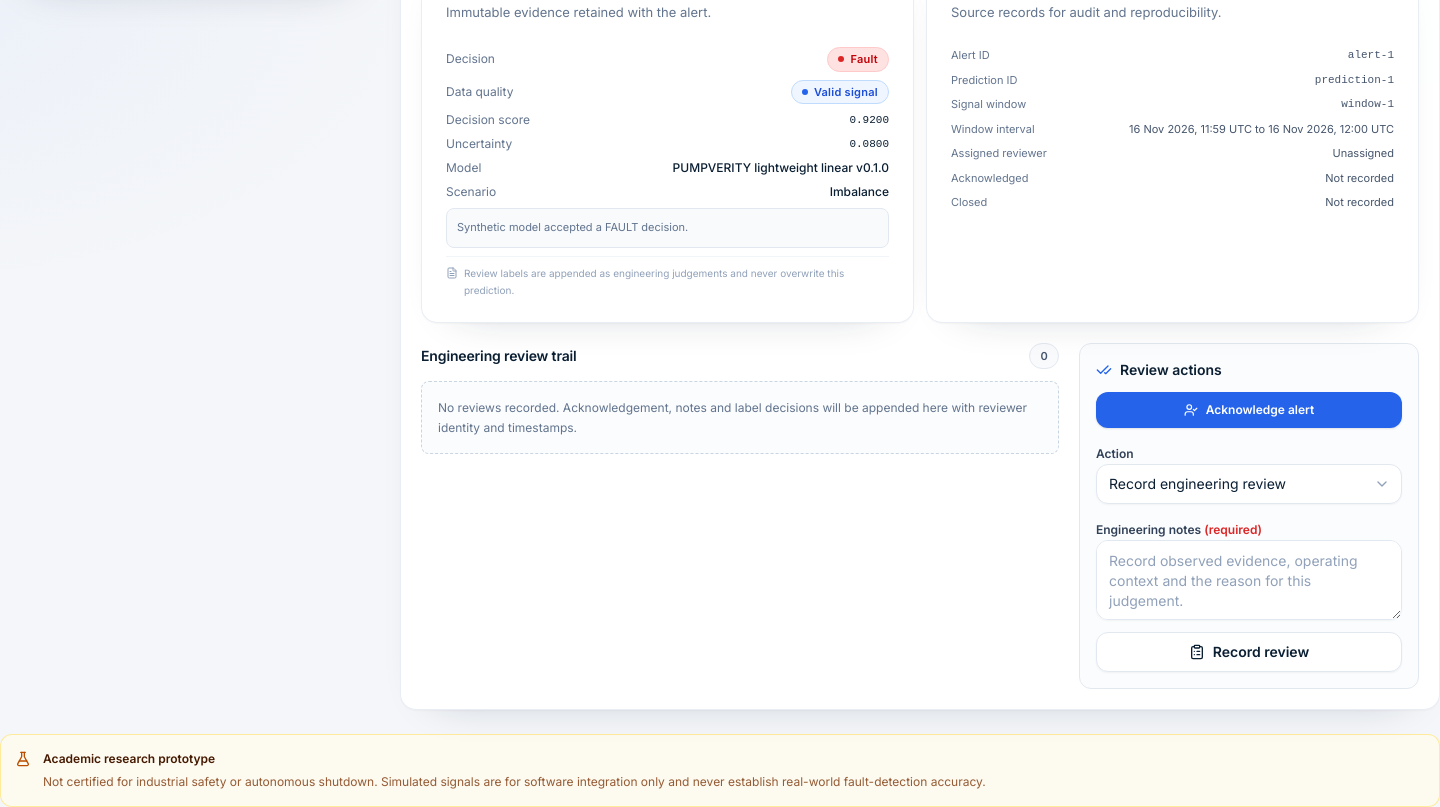
Test case: AlertsPage › submits an appended correction with a label and notes
(page scrolled)
Select "Correct prediction label" in the dropdown labelled "Action" at (1249, 484), box [1096,464,1402,504]
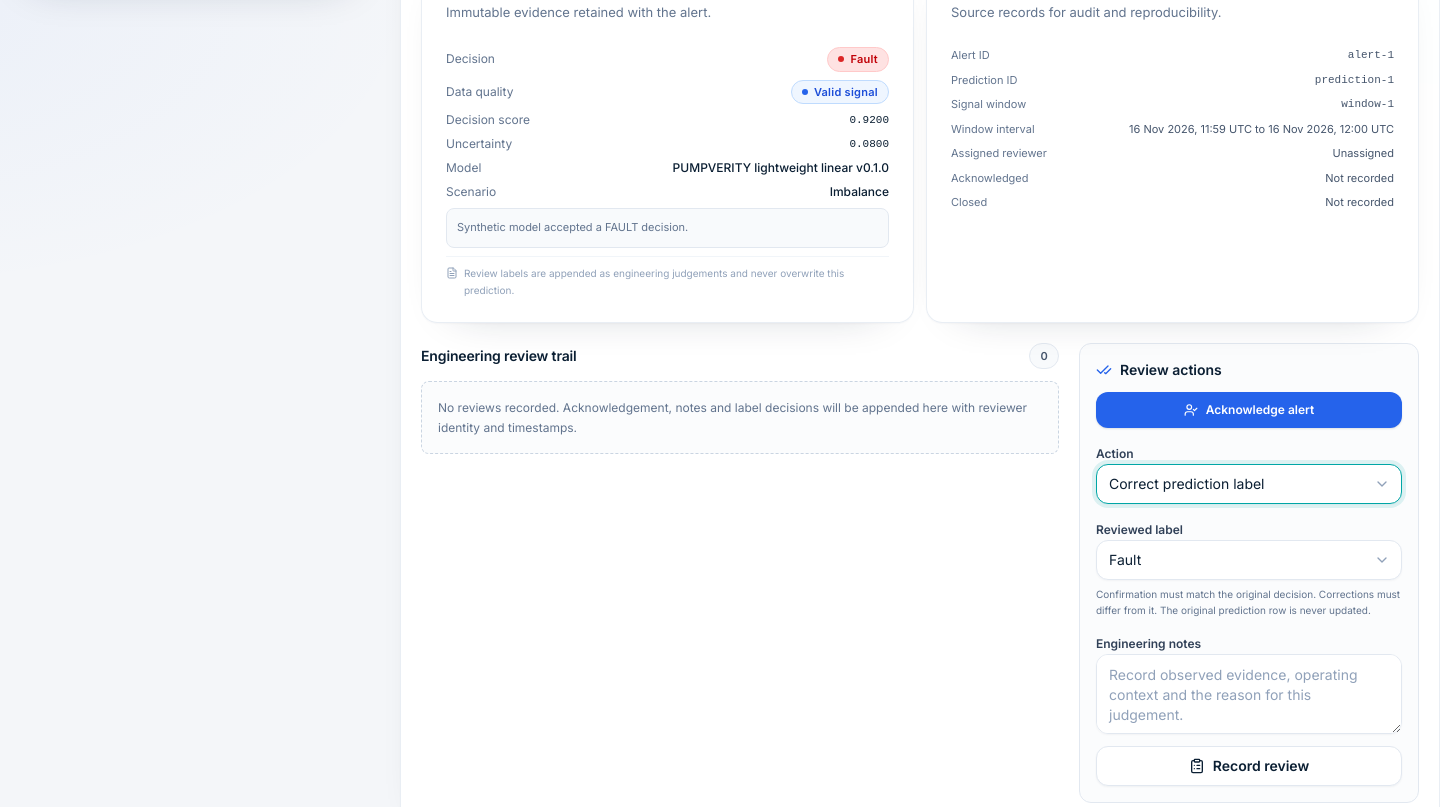
Select "Uncertain" in the dropdown labelled "Reviewed label" at (1249, 560), box [1096,540,1402,580]
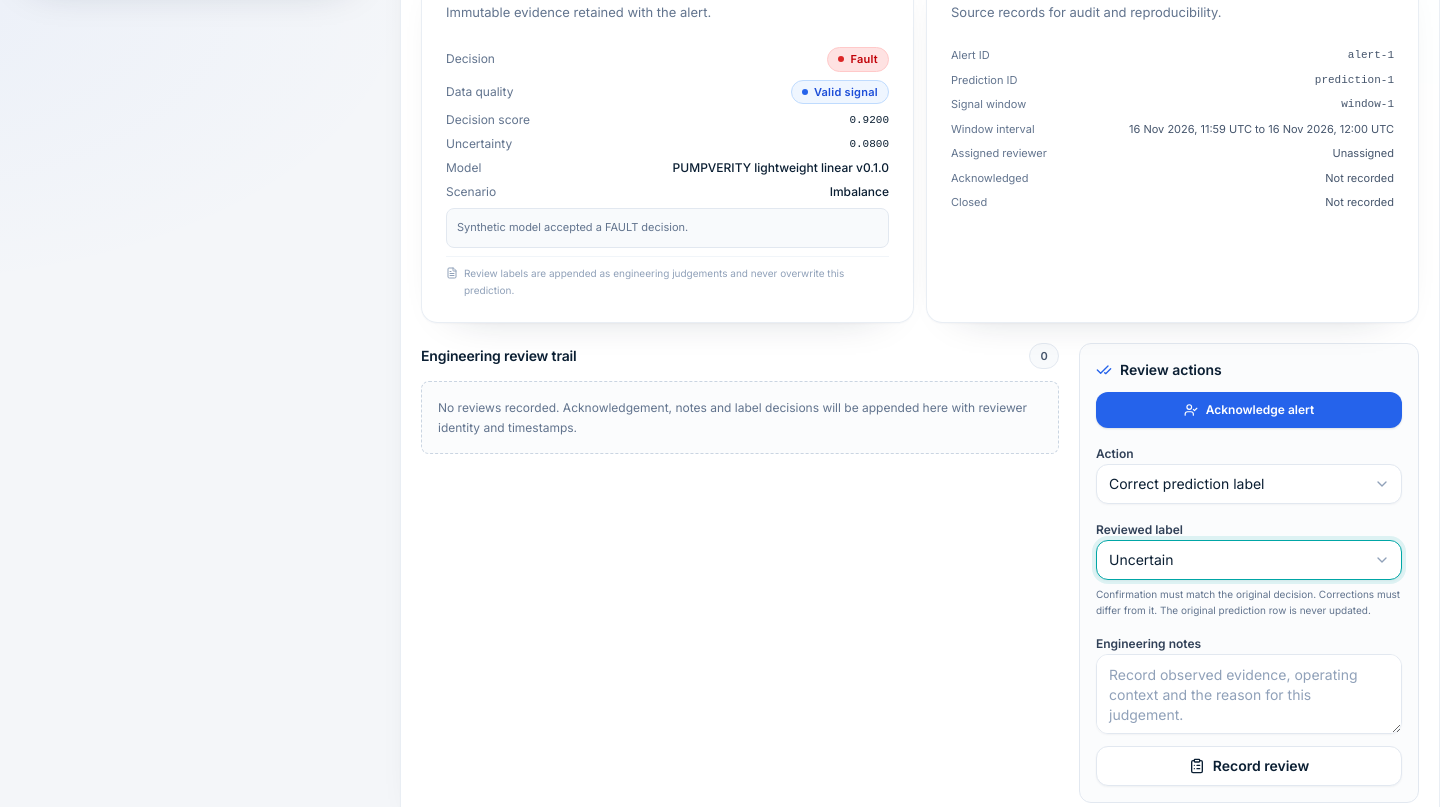
Type "Evidence is inconclusive after inspection." into the text box labelled "Engineering notes" at (1249, 694), box [1096,654,1402,734]
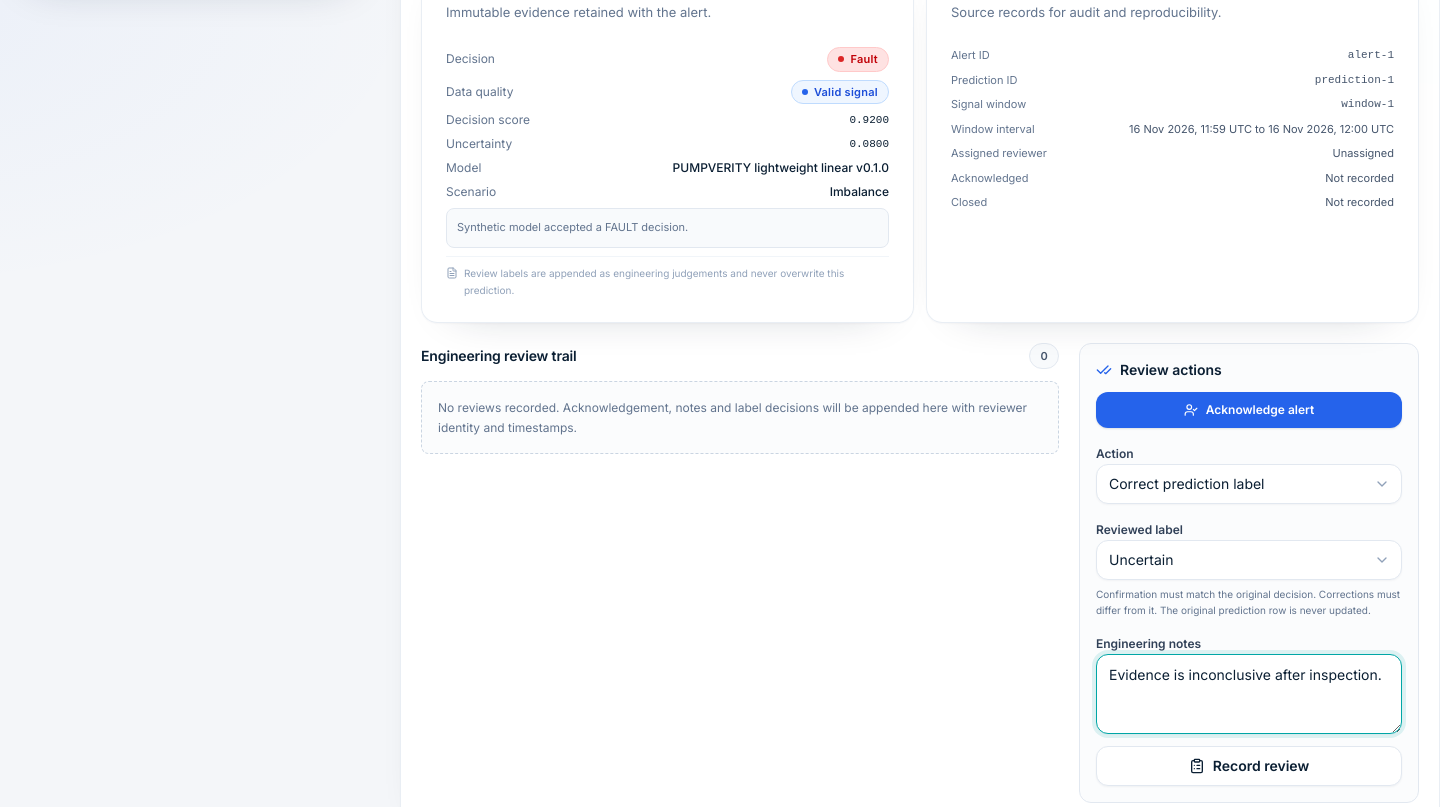
Click the button "Record review" at (1249, 766), box [1096,746,1402,786]
(page scrolled)
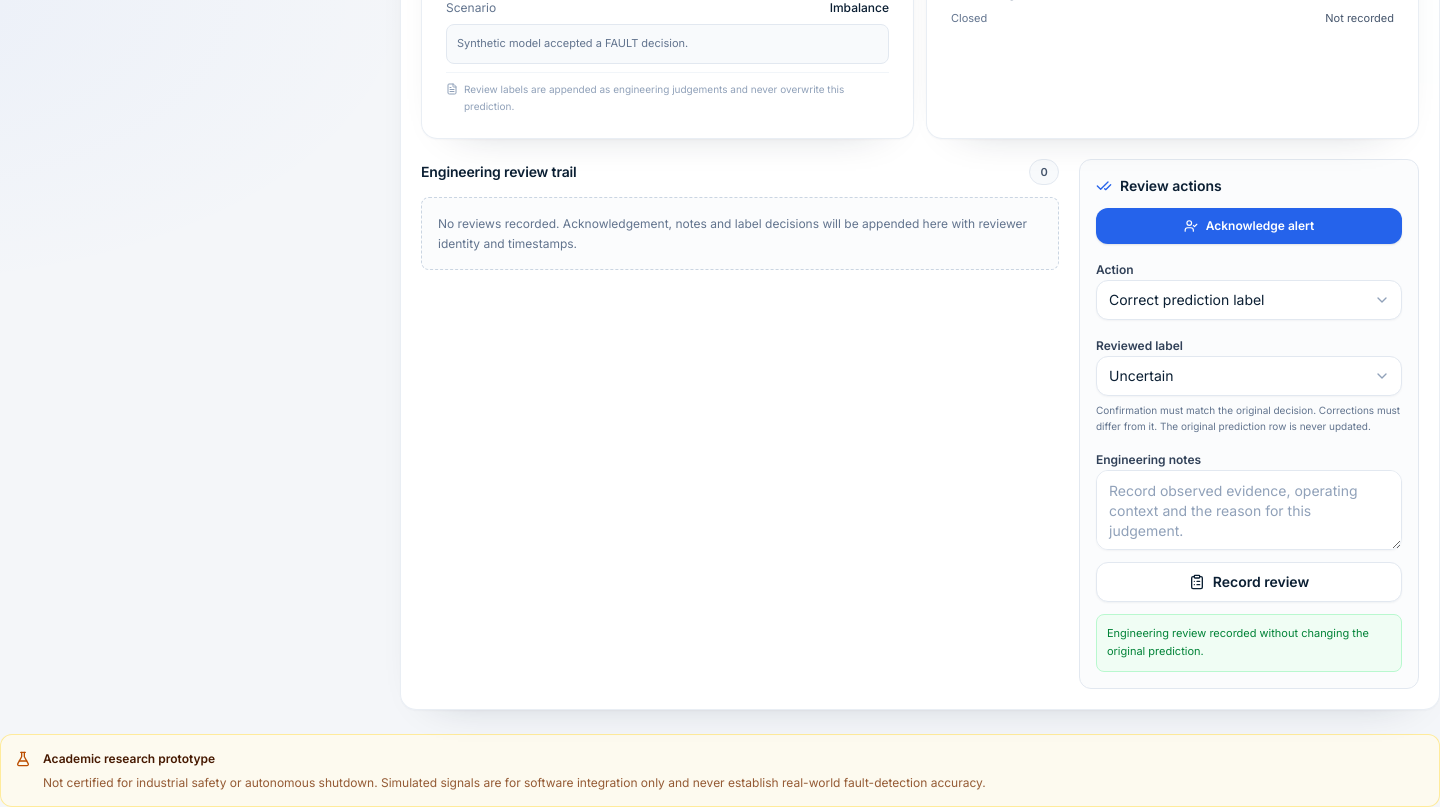
Result: the text "Engineering review recorded without changing the original prediction." is shown at [1096,614,1402,672]
